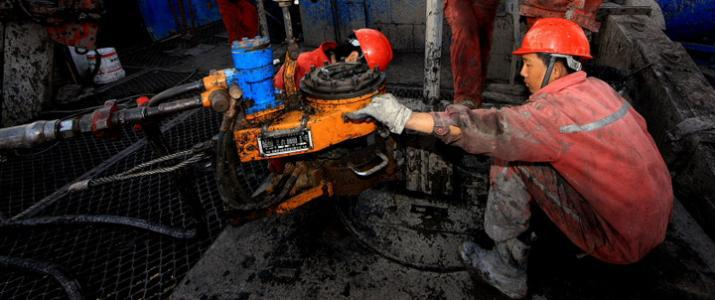helmet: (505, 13, 598, 93), (327, 28, 396, 77)
